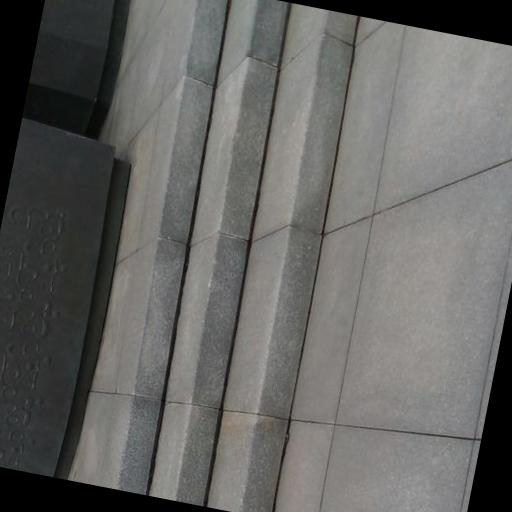stairs: (71, 0, 357, 511)
